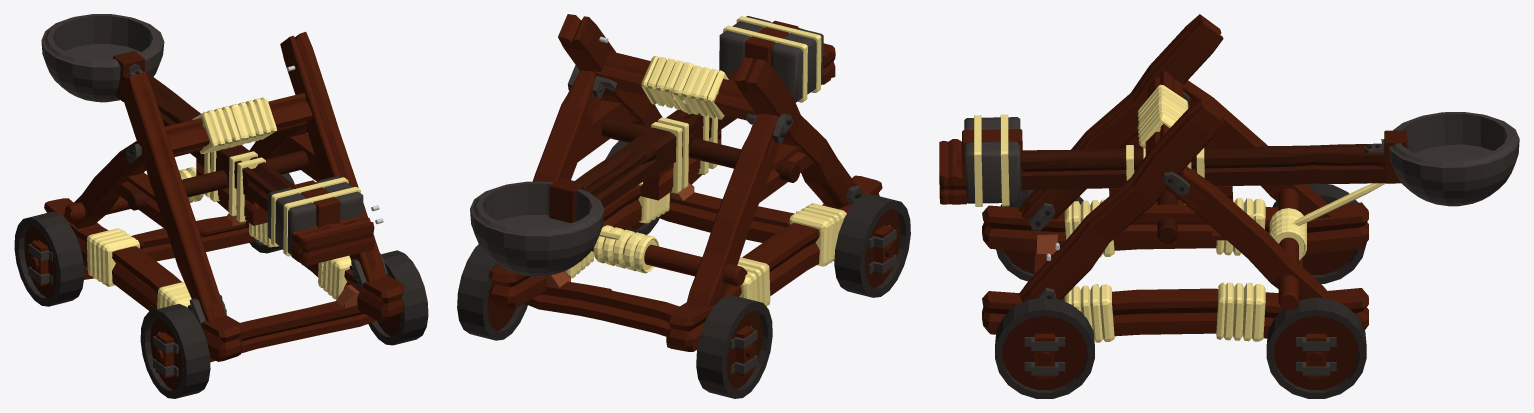
The model's file is Catapulta_OBJ.obj.
The picture shows the model from 3 angles, left to right: view 1: azimuth 30°, elevation 25°; view 2: azimuth 150°, elevation 25°; view 3: azimuth 270°, elevation 25°; orthographic projection. The views are drawn at different scales.
Parts seen in each view (by area): view 1: Cubo.009_Cubo.011, Cubo.008_Cubo.009, Cube.001, Sphere, Cylinder.002_Cylinder.009, Cylinder.008, Cubo, Cube.009_Cube.004, Sphere.001, Cube.016, Cylinder.013_Cylinder.016, Cube.014 (+25 smaller); view 2: Cubo.007_Cubo.008, Sphere, Cubo.009_Cubo.011, Cube.001, Cube.009_Cube.004, Cylinder.002_Cylinder.009, Cylinder.008, Cubo.001, Cubo.006_Cubo.012, Cube.014, Cubo.008_Cubo.009, Cube (+27 smaller); view 3: Cube.009_Cube.004, Cubo.008_Cubo.009, Cube, Cubo.009_Cubo.011, Cube.001, Sphere, Cubo.006_Cubo.012, Sphere.001, Cylinder.011_Cylinder.013, Cylinder.012_Cylinder.015, Cylinder.013_Cylinder.016, Cylinder.010_Cylinder.012 (+22 smaller).
Part boxes in pixels (<box>): Cubo.009_Cubo.011: <box>119,71,225,321</box>; Cubo.008_Cubo.009: <box>280,32,385,282</box>; Cube.001: <box>44,198,242,361</box>; Sphere: <box>41,14,164,102</box>; Cylinder.002_Cylinder.009: <box>14,211,84,306</box>; Cylinder.008: <box>140,304,210,398</box>; Cubo: <box>210,301,376,362</box>; Cube.009_Cube.004: <box>116,70,293,211</box>; Sphere.001: <box>52,16,152,59</box>; Cube.016: <box>291,214,374,265</box>; Cylinder.013_Cylinder.016: <box>368,250,428,345</box>; Cube.014: <box>267,176,363,254</box>; Cubo.007_Cubo.008: <box>686,113,780,308</box>; Sphere: <box>470,181,604,276</box>; Cubo.009_Cubo.011: <box>734,57,856,208</box>; Cube.001: <box>666,175,882,351</box>; Cube.009_Cube.004: <box>575,66,739,208</box>; Cylinder.002_Cylinder.009: <box>696,294,772,398</box>; Cylinder.008: <box>834,193,910,297</box>; Cubo.001: <box>524,281,679,336</box>; Cubo.006_Cubo.012: <box>533,70,605,182</box>; Cube.014: <box>719,16,823,102</box>; Cubo.008_Cubo.009: <box>558,14,662,127</box>; Cube: <box>488,173,701,308</box>; Cube.009_Cube.004: <box>1021,143,1400,189</box>; Cubo.008_Cubo.009: <box>1018,98,1223,302</box>; Cube: <box>982,288,1368,338</box>; Cubo.009_Cubo.011: <box>1018,14,1223,227</box>; Cube.001: <box>982,202,1368,254</box>; Sphere: <box>1389,112,1519,206</box>; Cubo.006_Cubo.012: <box>1166,166,1330,300</box>; Sphere.001: <box>1402,114,1507,159</box>; Cylinder.011_Cylinder.013: <box>1273,316,1358,389</box>; Cylinder.012_Cylinder.015: <box>1002,316,1086,389</box>; Cylinder.013_Cylinder.016: <box>995,297,1094,398</box>; Cylinder.010_Cylinder.012: <box>1266,297,1366,398</box>.
Bounding box in the file's own units: 5.2 × 4.97 × 9.41.
